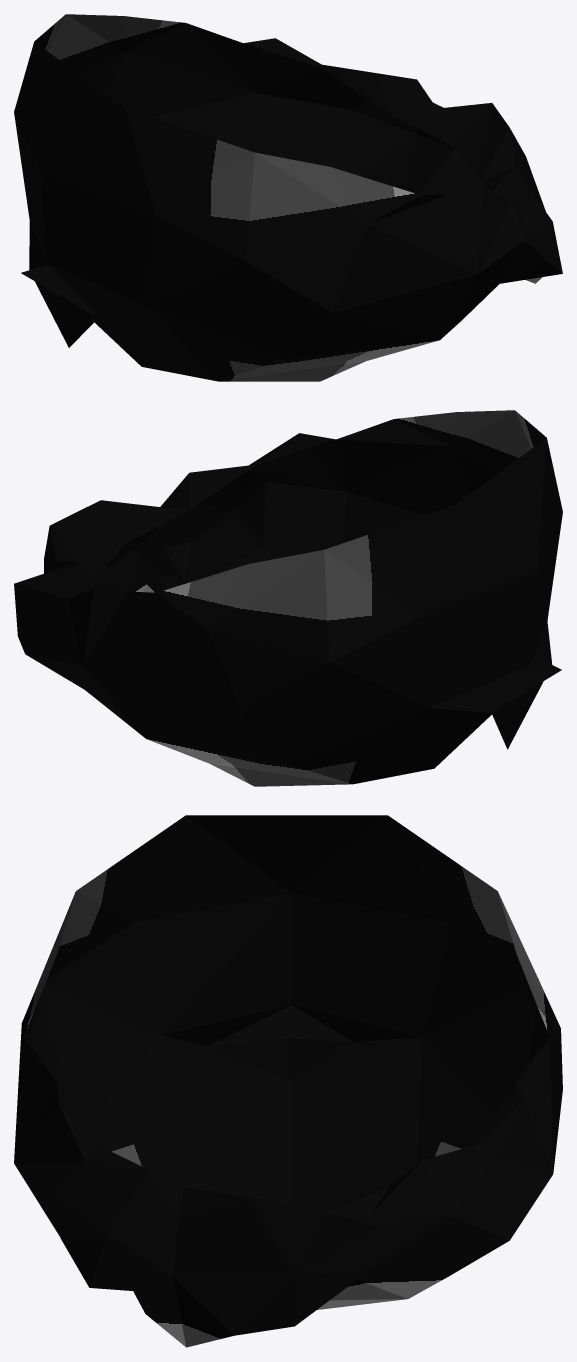
Rendered from ma_cap3.obj.
3 renders of one model, top to bottom at view 1: azimuth 30°, elevation 25°; view 2: azimuth 150°, elevation 25°; view 3: azimuth 270°, elevation 25°, orthographic. The views are drawn at different scales.
Visible parts, largest first — view 1: m0_2; view 2: m0_2; view 3: m0_2.
Boxes of the visible parts, bbox=[...] form: m0_2: bbox=[14, 14, 562, 381]; m0_2: bbox=[14, 410, 562, 786]; m0_2: bbox=[14, 815, 562, 1347].
Bounding box in the file's own units: 60.93 × 38.72 × 50.92.
3 materials, 3 textured.
